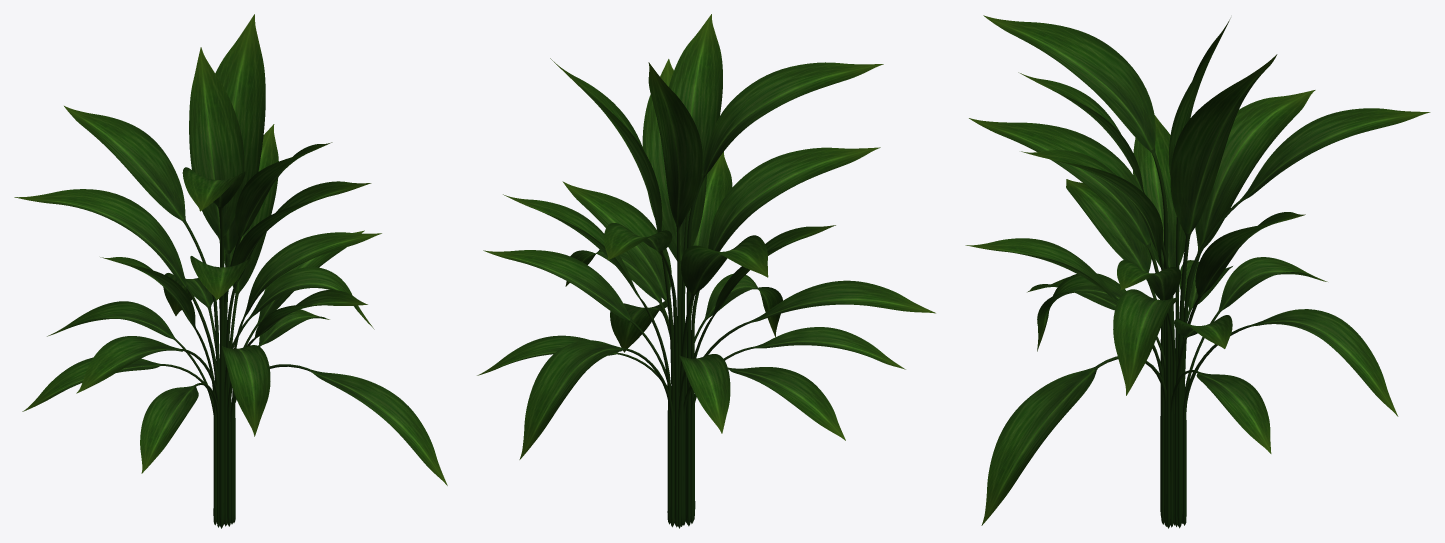
3 renders of one model, left to right at view 1: azimuth 30°, elevation 25°; view 2: azimuth 150°, elevation 25°; view 3: azimuth 270°, elevation 25°, orthographic. The views are drawn at different scales.
Parts seen in each view (by area): view 1: archmodels66_007_001; view 2: archmodels66_007_001; view 3: archmodels66_007_001.
Boxes of the visible parts, x1=… form: archmodels66_007_001: x1=14, y1=14, x2=447, y2=528; archmodels66_007_001: x1=477, y1=14, x2=935, y2=528; archmodels66_007_001: x1=965, y1=15, x2=1430, y2=528.
Bounding box in the file's own units: 8.84 × 10.74 × 8.83.
Materials: 1 (1 with a texture image).
